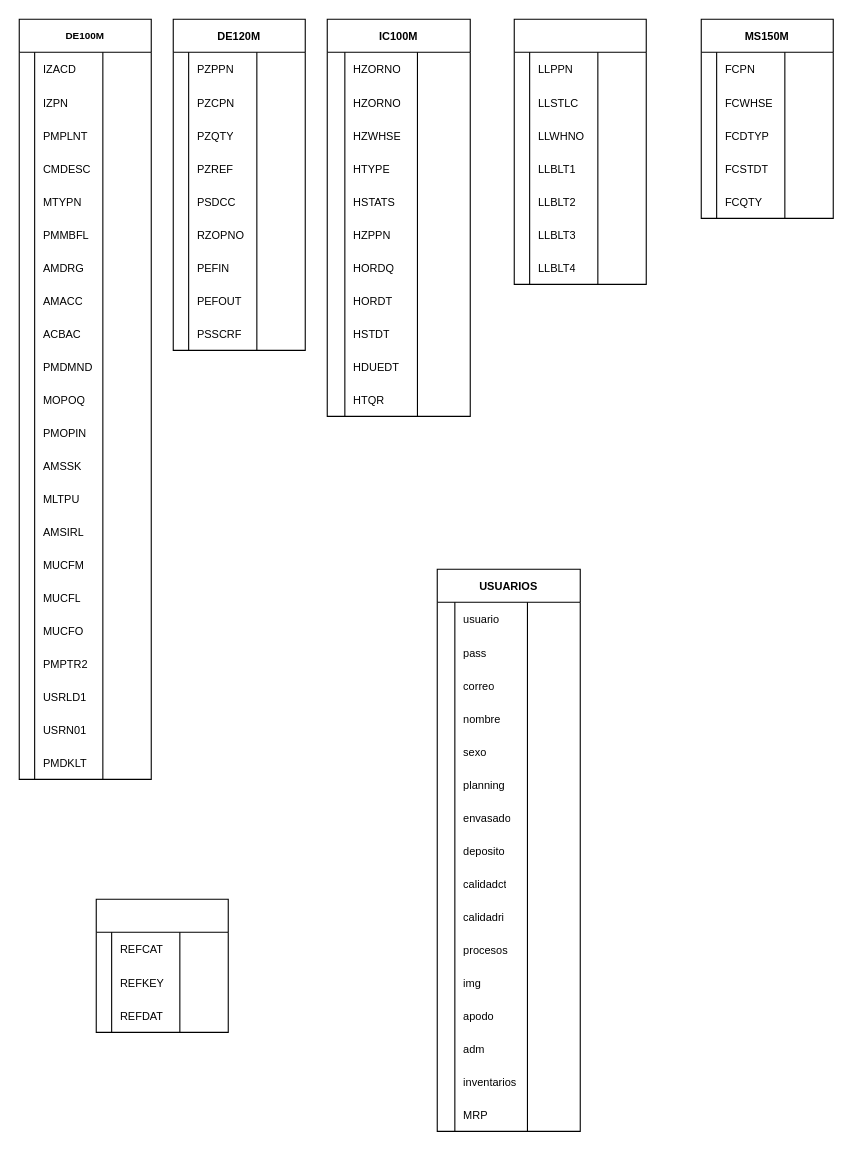
Some shapes in this 853 by 1151 pixel diagram are drawn without their labels. The shapes that lost their labels are listed below. From the top down, each one's box as (x1, y1, x2, y2) in pixels, then its label:
(513, 18, 646, 284): IC130M
(95, 898, 228, 1032): REFERPM
